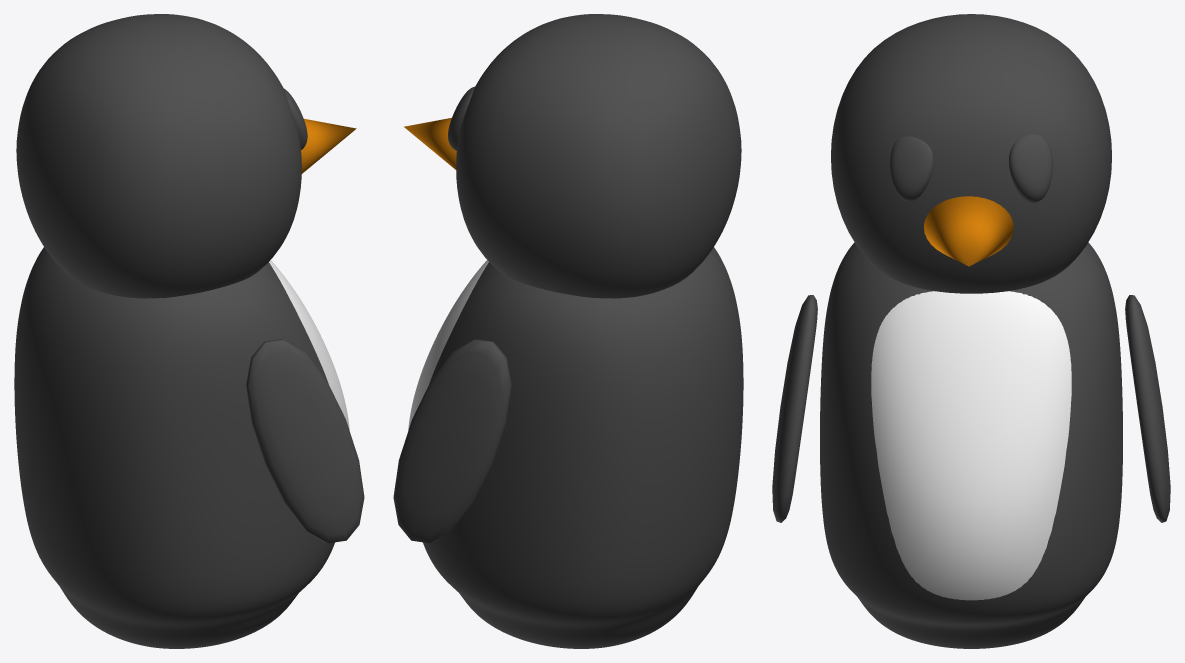
File: pingouin.fbx
3 views of the same model, side by side, from view 1: azimuth 30°, elevation 25°; view 2: azimuth 150°, elevation 25°; view 3: azimuth 270°, elevation 25° (orthographic). The views are drawn at different scales.
Visible parts, largest first — view 1: Cube.001, Cône; view 2: Cube.001, Cône, Cube.005; view 3: Cube.001, Cône, Cube.005, Cube.006.
Part boxes in pixels (box(x1,y1,x2,y2)): Cube.001: box(14, 14, 364, 648); Cône: box(301, 118, 356, 173); Cube.001: box(393, 14, 743, 648); Cône: box(404, 118, 456, 169); Cube.005: box(448, 86, 474, 150); Cube.001: box(772, 14, 1170, 648); Cône: box(924, 196, 1013, 266); Cube.005: box(1009, 134, 1052, 202); Cube.006: box(890, 136, 933, 201).
Bounding box in the file's own units: 180 × 329 × 203.
